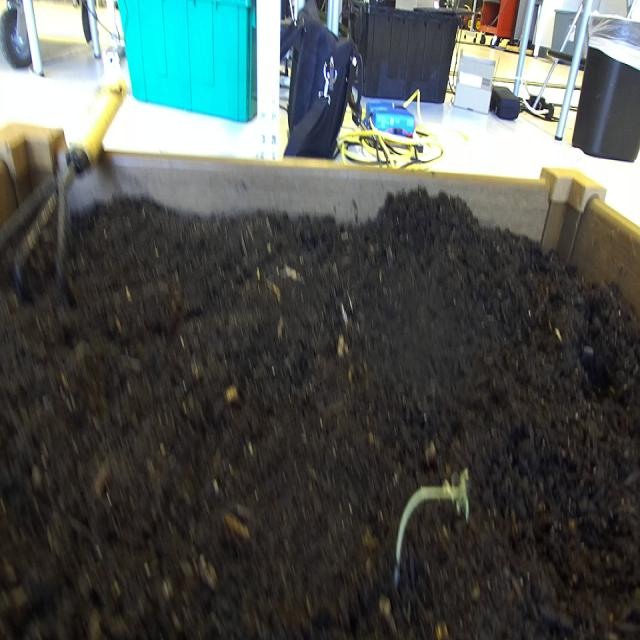Unhealthy: (393, 462, 475, 586)
